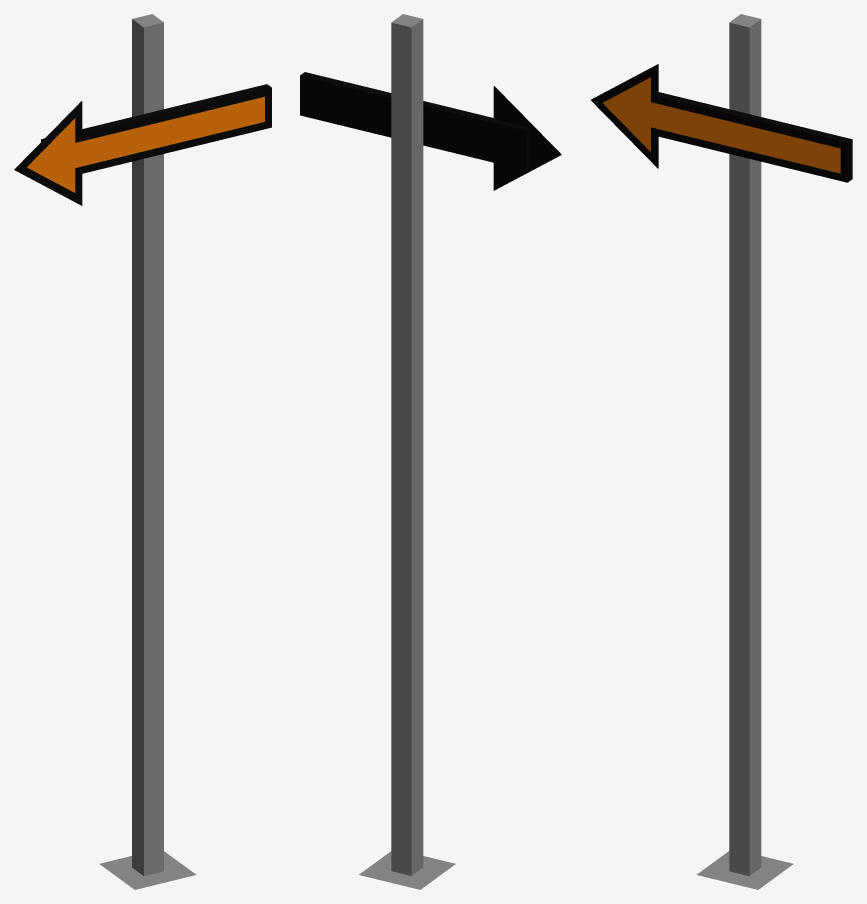
The model's file is left_arrow.fbx.
3 renders of one model, left to right at view 1: azimuth 30°, elevation 25°; view 2: azimuth 150°, elevation 25°; view 3: azimuth 330°, elevation 25°, orthographic.
Parts seen in each view (by area): view 1: Model; view 2: Model; view 3: Model.
Boxes of the visible parts, left/top/right/bottom form: Model: left=14, top=14, right=271, bottom=889; Model: left=300, top=14, right=561, bottom=889; Model: left=591, top=14, right=852, bottom=889.
Size of the model in its own units: 24.97 by 78.74 by 6.
